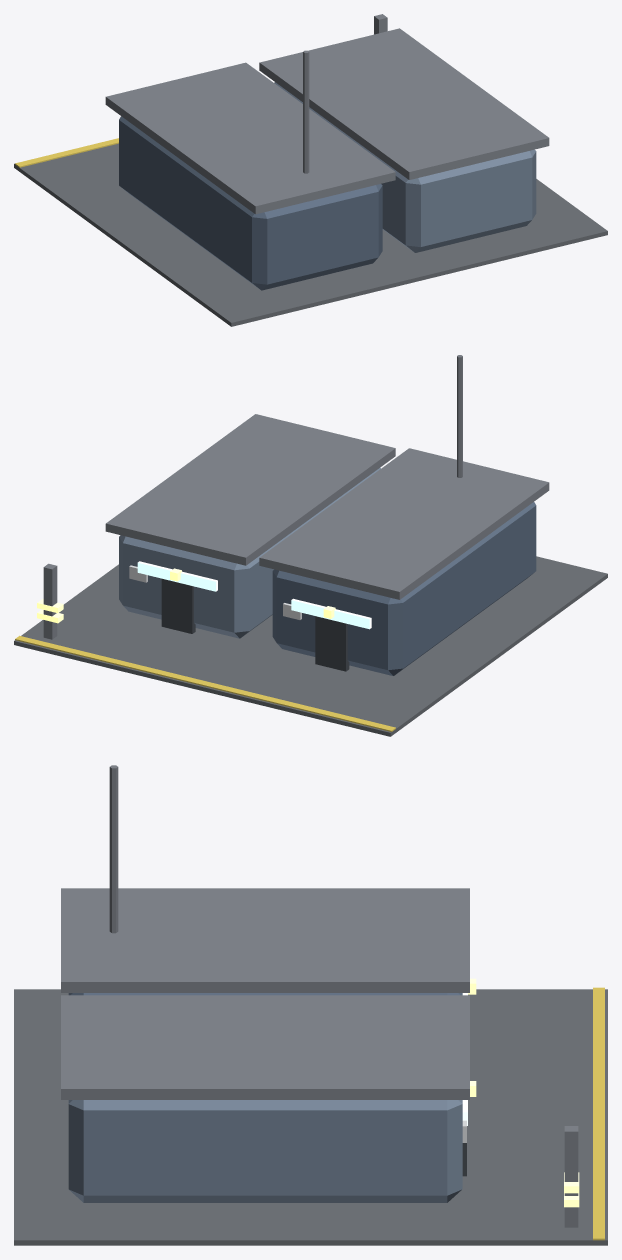
The model's file is zone_low_1_t2.glb.
The picture shows the model from 3 angles, top to bottom: view 1: azimuth 30°, elevation 25°; view 2: azimuth 150°, elevation 25°; view 3: azimuth 270°, elevation 25°; orthographic projection. The views are drawn at different scales.
Visible parts, largest first — view 1: zone_low_1_t2, detail; view 2: zone_low_1_t2, detail; view 3: zone_low_1_t2, detail.
Part boxes in pixels (x1,y1,x2,y2): zone_low_1_t2: [14, 28, 607, 326]; detail: [15, 14, 387, 173]; zone_low_1_t2: [14, 414, 607, 736]; detail: [15, 355, 462, 731]; zone_low_1_t2: [14, 888, 607, 1245]; detail: [109, 765, 604, 1240].
Bounding box in the file's own units: 19.6 × 11 × 19.6.
